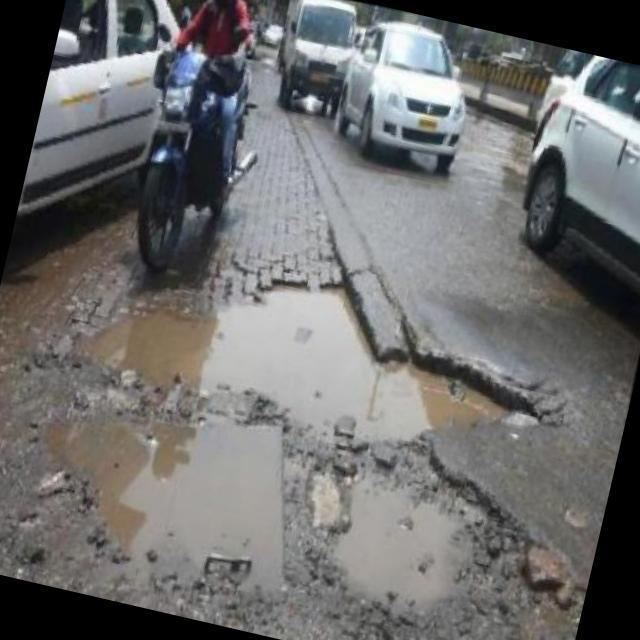Pothole: (69, 290, 539, 440), (43, 415, 282, 594), (311, 472, 477, 607)
